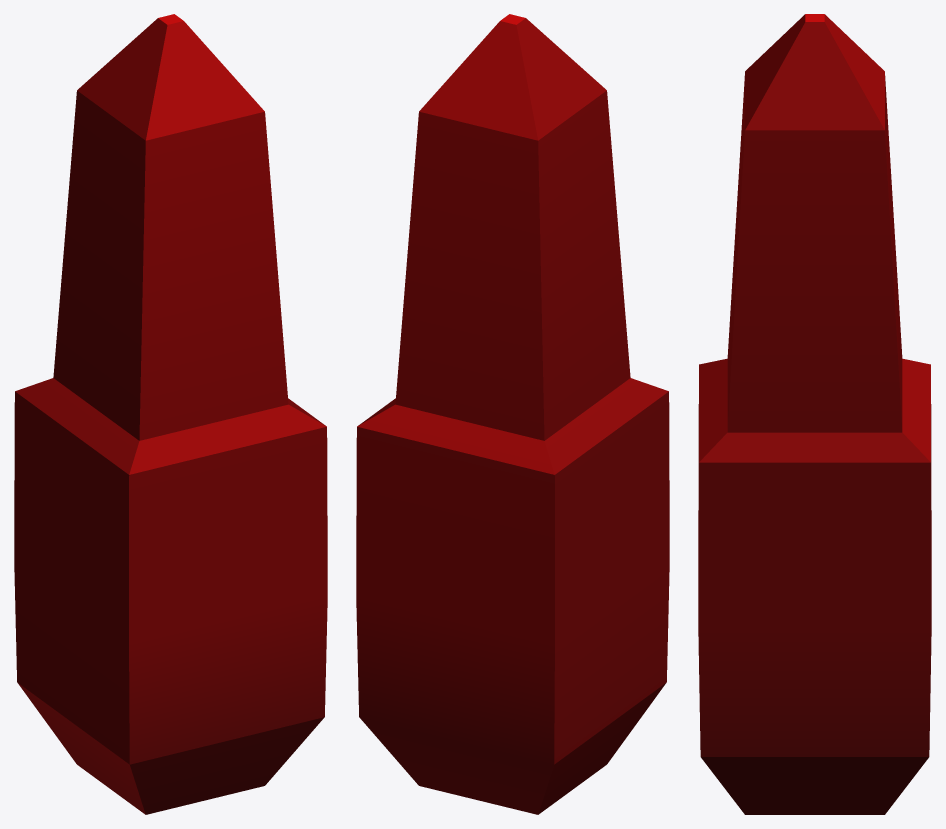
File: geology-carvedstone-obelisk_v6.fbx
3 views of the same model, side by side, from view 1: azimuth 30°, elevation 25°; view 2: azimuth 150°, elevation 25°; view 3: azimuth 270°, elevation 25° (orthographic).
Parts seen in each view (by area): view 1: Obelisk_v6; view 2: Obelisk_v6; view 3: Obelisk_v6.
Boxes of the visible parts, x1=… form: Obelisk_v6: x1=14, y1=14, x2=327, y2=814; Obelisk_v6: x1=356, y1=14, x2=669, y2=814; Obelisk_v6: x1=698, y1=14, x2=931, y2=814.
Size of the model in its own units: 1.41 by 5.12 by 1.41.
